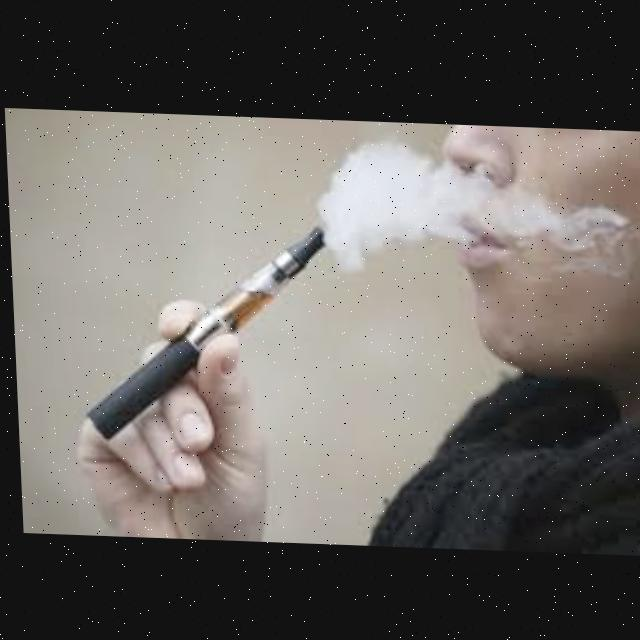vape: (71, 208, 343, 445)
